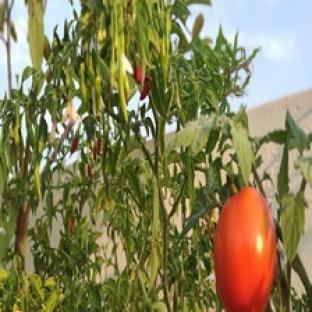Tomato: (214, 187, 277, 311), (134, 66, 143, 83)
